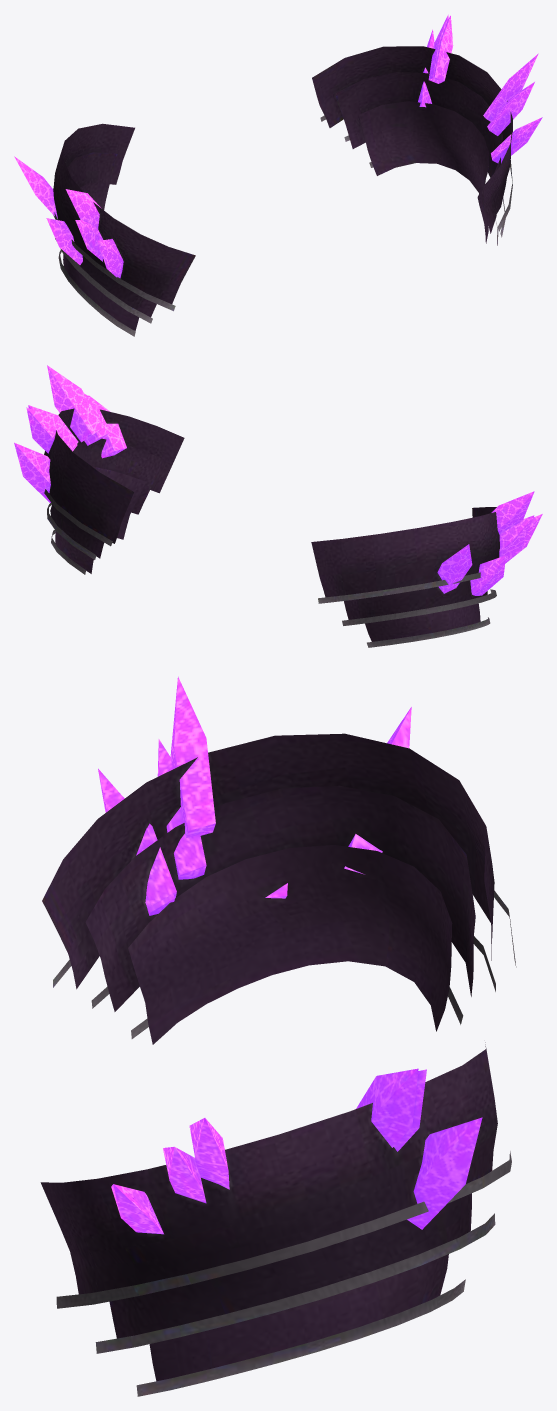
Rendered from Ombreiras_Leves_nivel100.glb.
The picture shows the model from 3 angles, top to bottom: view 1: azimuth 30°, elevation 25°; view 2: azimuth 150°, elevation 25°; view 3: azimuth 270°, elevation 25°; orthographic projection. The views are drawn at different scales.
Visible parts, largest first — view 1: ombreiras_leves_nivel100; view 2: ombreiras_leves_nivel100; view 3: ombreiras_leves_nivel100.
Boxes of the visible parts, x1,y1,x2,y2 form: ombreiras_leves_nivel100: (14,14,542,336); ombreiras_leves_nivel100: (14,365,542,647); ombreiras_leves_nivel100: (40,676,516,1396).
Bounding box in the file's own units: 0.6946 × 0.2426 × 0.2983.
1 material, 1 textured.
